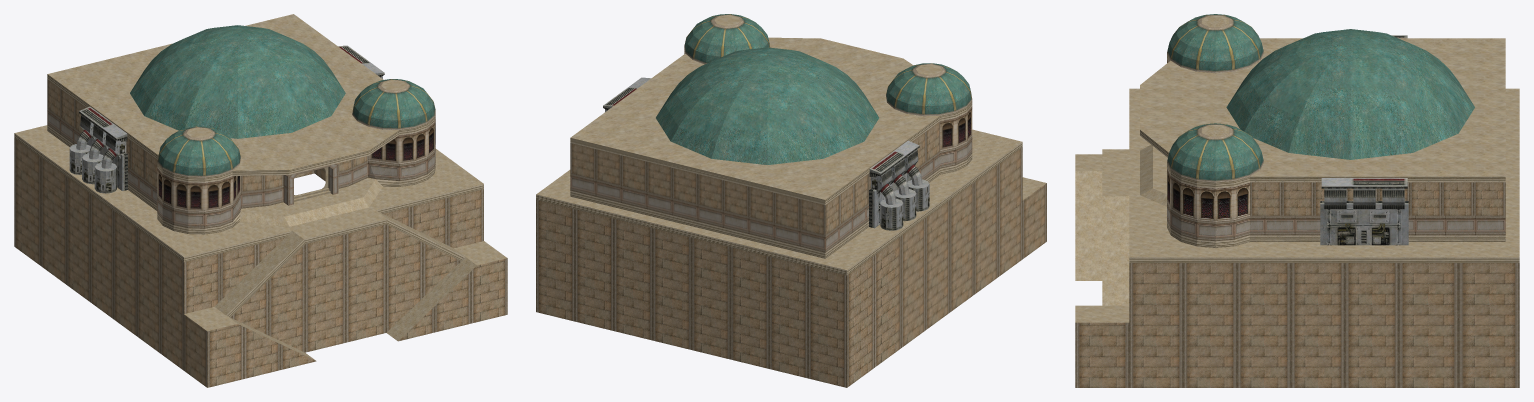
Rendered from ply_nboo_cantina_s01_r0_exterior_mesh_l1.fbx.
The picture shows the model from 3 angles, left to right: view 1: azimuth 30°, elevation 25°; view 2: azimuth 150°, elevation 25°; view 3: azimuth 270°, elevation 25°; orthographic projection. The views are drawn at different scales.
Parts seen in each view (by area): view 1: mesh_node; view 2: mesh_node; view 3: mesh_node.
Part boxes in pixels (x1,y1,x2,y2): mesh_node: (14, 14, 507, 387); mesh_node: (536, 14, 1046, 387); mesh_node: (1075, 14, 1519, 387).
Size of the model in its own units: 37 by 26.74 by 41.2.
